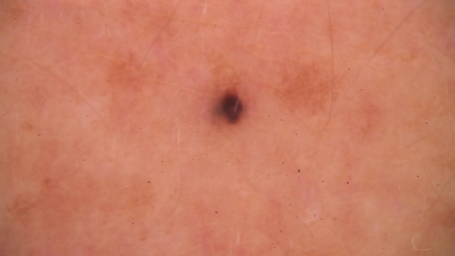nevus: (216, 88, 242, 123)
